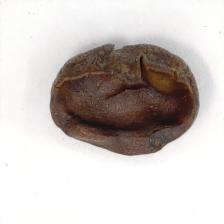NG: (53, 73, 198, 152), (64, 43, 190, 96)
